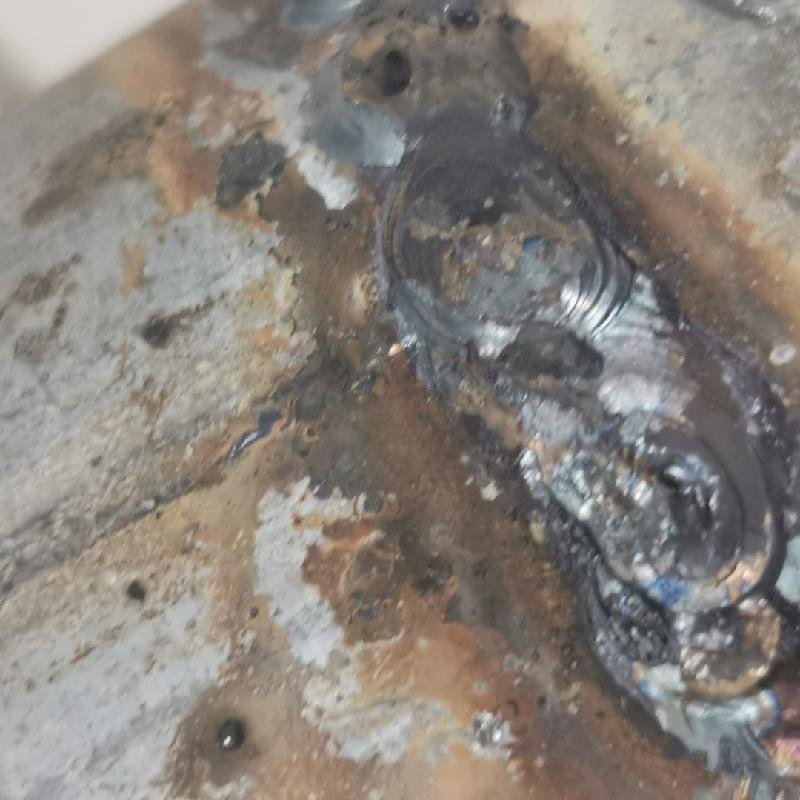Surface_pores: (346, 4, 503, 100)
crater: (501, 411, 799, 773)
